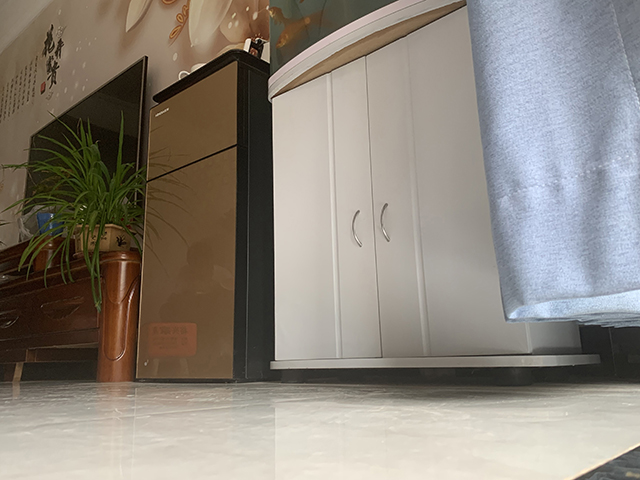cabinet: (268, 1, 603, 384), (137, 47, 274, 386), (1, 228, 142, 384)
curtain: (467, 1, 640, 331)
